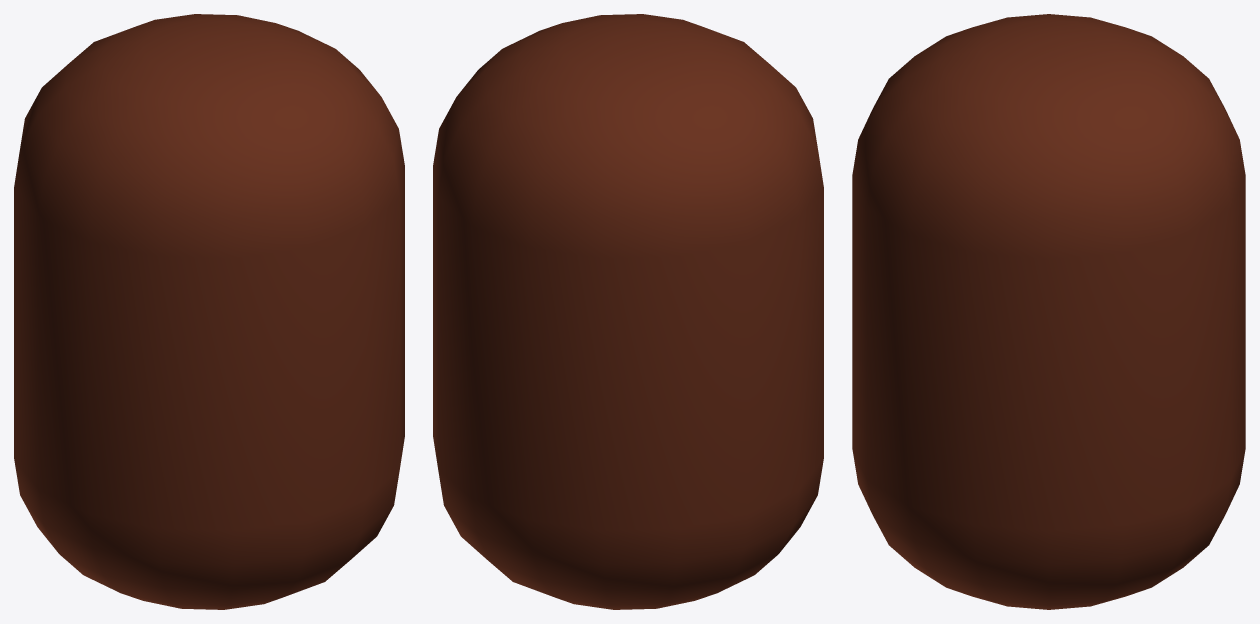
Rendered from Fish-Food.fbx.
3 views of the same model, side by side, from view 1: azimuth 30°, elevation 25°; view 2: azimuth 150°, elevation 25°; view 3: azimuth 270°, elevation 25° (orthographic).
Parts seen in each view (by area): view 1: Cylinder; view 2: Cylinder; view 3: Cylinder.
Part boxes in pixels (<box>): Cylinder: <box>14,14,404,609</box>; Cylinder: <box>433,14,823,609</box>; Cylinder: <box>852,14,1245,609</box>.
Size of the model in its own units: 24 by 36 by 24.
